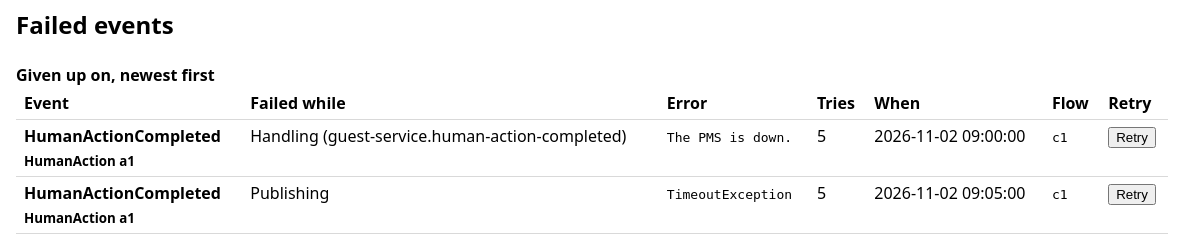
Test case: FailedEvents › lists what failed with its error and flow, and retries a handler's failure for that handler
Check: the row named "Handling (guest-service.human-action-completed)" shows "The PMS is down.", box [667,130,792,145]
Check: the row named "Handling (guest-service.human-action-completed)" shows "c1", box [1052,130,1068,145]
Click the button "Retry" in the row of "The PMS is down.". click: (1132, 137)
box: [1108,127,1156,148]
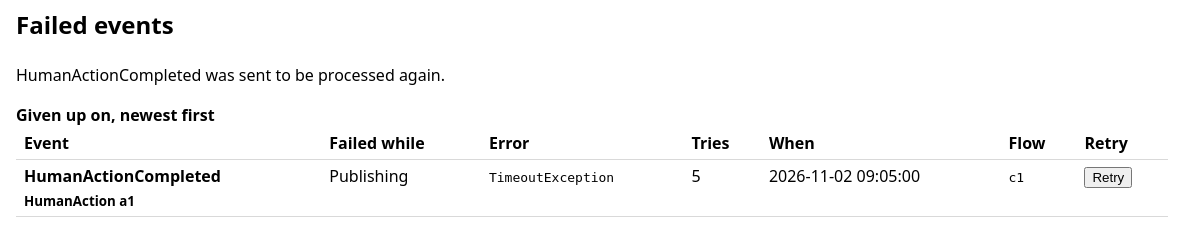
Check: the message reads "HumanActionCompleted was sent to be processed again.", box [16,64,445,86]
Check: the cell "Handling" is gone
